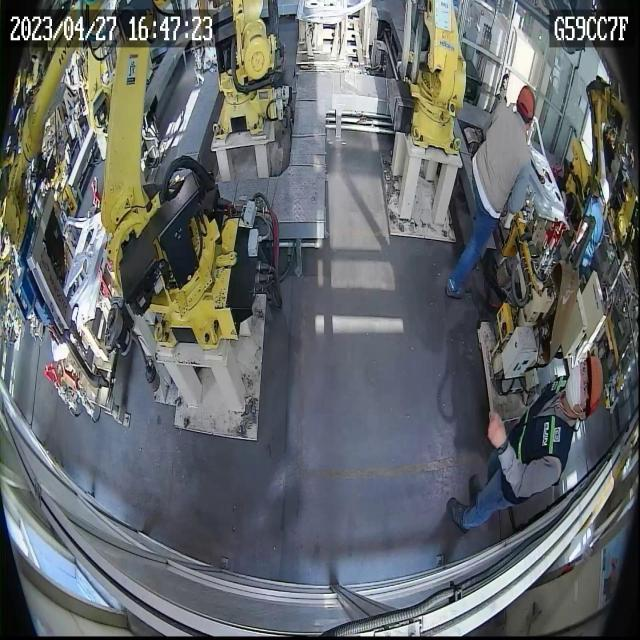Person: (446, 353, 603, 535), (445, 85, 536, 304), (572, 177, 610, 285)
